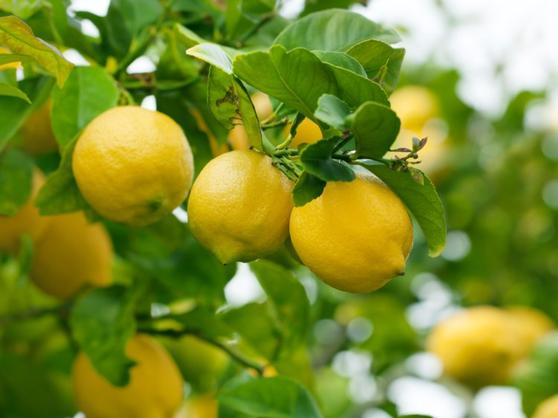lemon: (284, 165, 414, 288), (73, 106, 193, 226), (193, 147, 291, 263)
